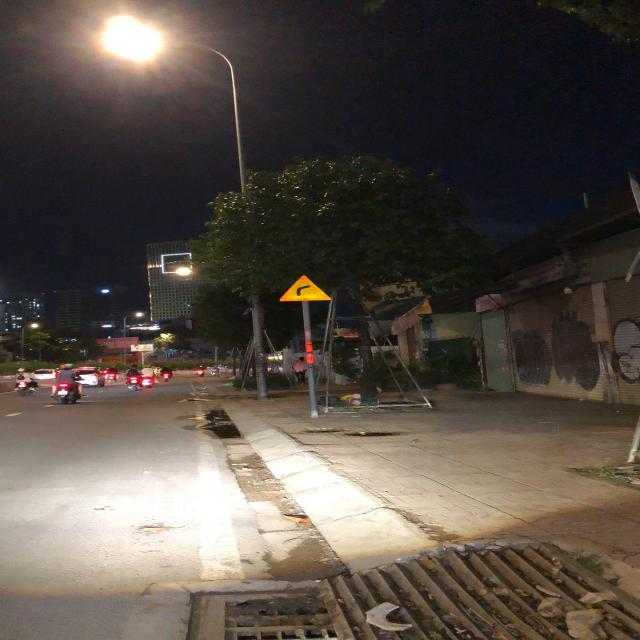Bien bao cho ngoat nguy hiem: (275, 272, 332, 305)
